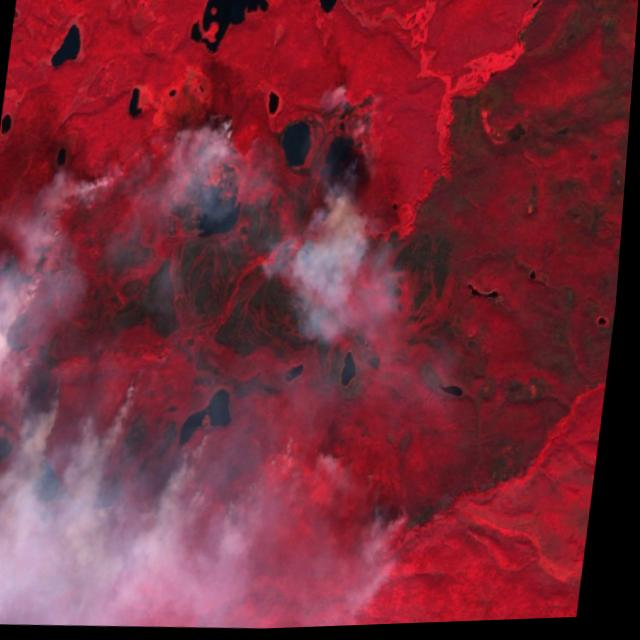fire: (0, 64, 479, 563)
